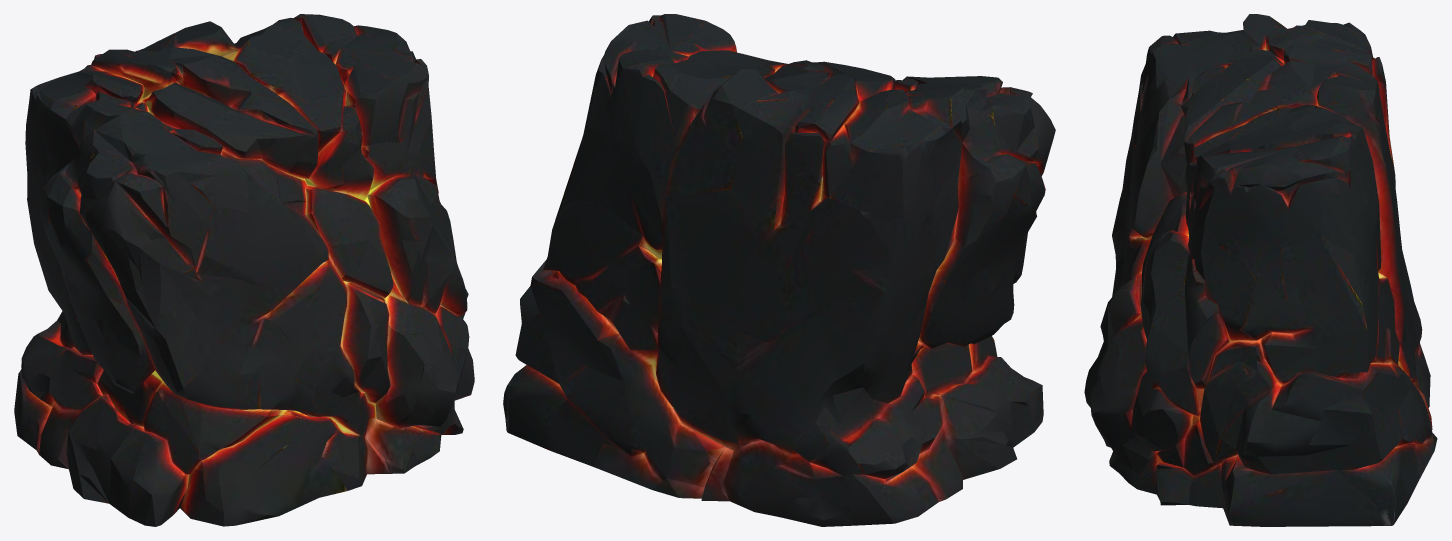
The model's file is lava_rock.glb.
3 views of the same model, side by side, from view 1: azimuth 30°, elevation 25°; view 2: azimuth 150°, elevation 25°; view 3: azimuth 270°, elevation 25° (orthographic). The views are drawn at different scales.
Bounding box in the file's own units: 1.9 × 1.62 × 1.46.
1 material, 1 textured.
